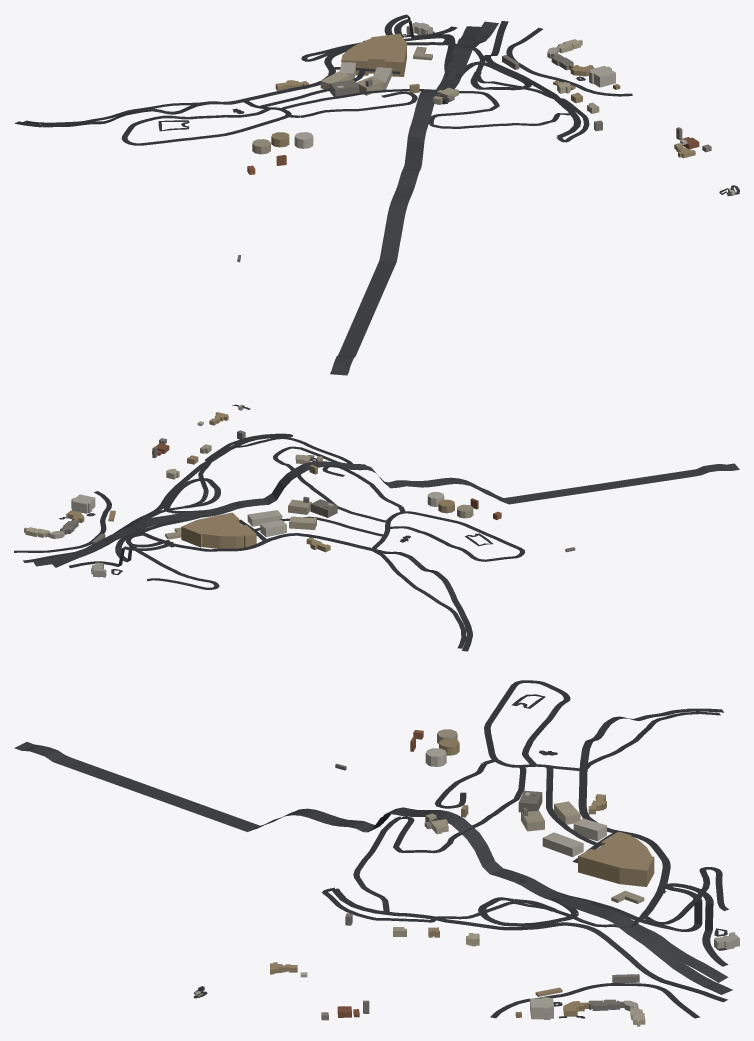
Rendered from tile_17_8.glb.
The picture shows the model from 3 angles, top to bottom: view 1: azimuth 30°, elevation 25°; view 2: azimuth 150°, elevation 25°; view 3: azimuth 270°, elevation 25°; orthographic projection. The views are drawn at different scales.
Parts seen in each view (by area): view 1: road_17_8, bld_17_8; view 2: road_17_8, bld_17_8; view 3: road_17_8, bld_17_8.
Boxes of the visible parts, x1,y1,x2,y2 form: road_17_8: [14, 14, 739, 375]; bld_17_8: [237, 22, 735, 262]; road_17_8: [14, 404, 739, 651]; bld_17_8: [24, 404, 575, 577]; road_17_8: [14, 680, 732, 1018]; bld_17_8: [195, 729, 739, 1026].
Bounding box in the file's own units: 776 × 110 × 818.
